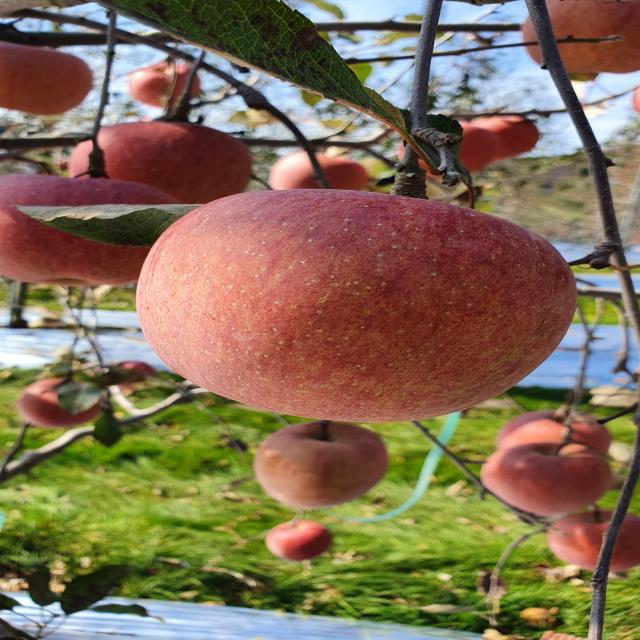fresh: (123, 173, 584, 429)
